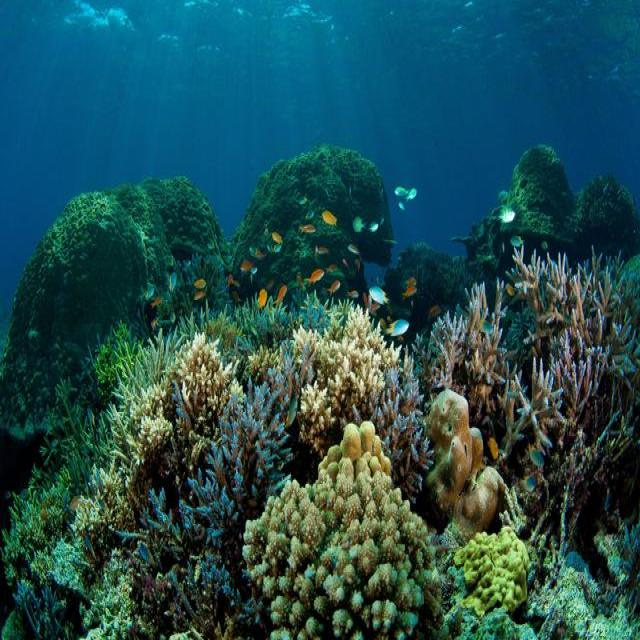aquatic plants: (1, 244, 639, 634)
fish: (383, 320, 409, 335), (370, 286, 389, 305), (274, 286, 286, 309), (303, 270, 323, 282), (258, 289, 267, 306)
reefs: (384, 145, 639, 333), (242, 421, 442, 639), (418, 389, 508, 529)
sea-floor: (0, 176, 233, 440), (232, 142, 392, 308)
